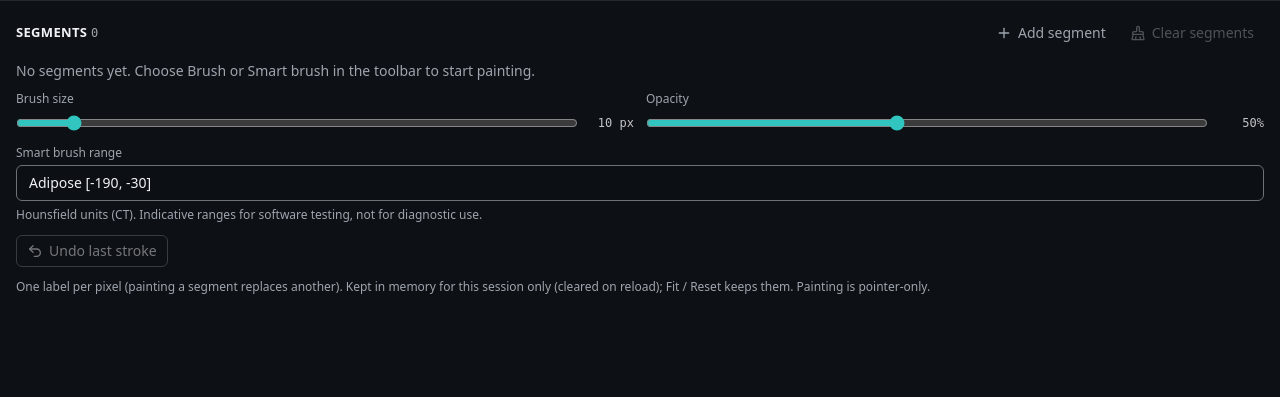
Test case: SegmentsSection › brush size, opacity, smart range and Undo drive the store
Set the slider labelled "Brush size" to "37" at (223, 123), box [16, 111, 578, 135]
Set the slider labelled "Opacity" to "80" at (1079, 123), box [646, 111, 1208, 135]
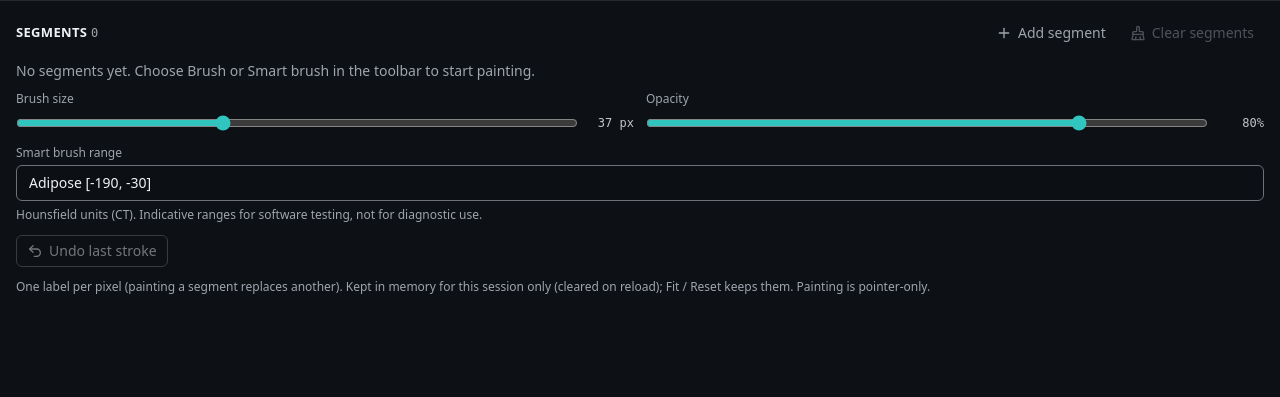
Select "Bone [150, 3000]" in the dropdown labelled "Smart brush range" at (640, 183), box [16, 165, 1264, 201]
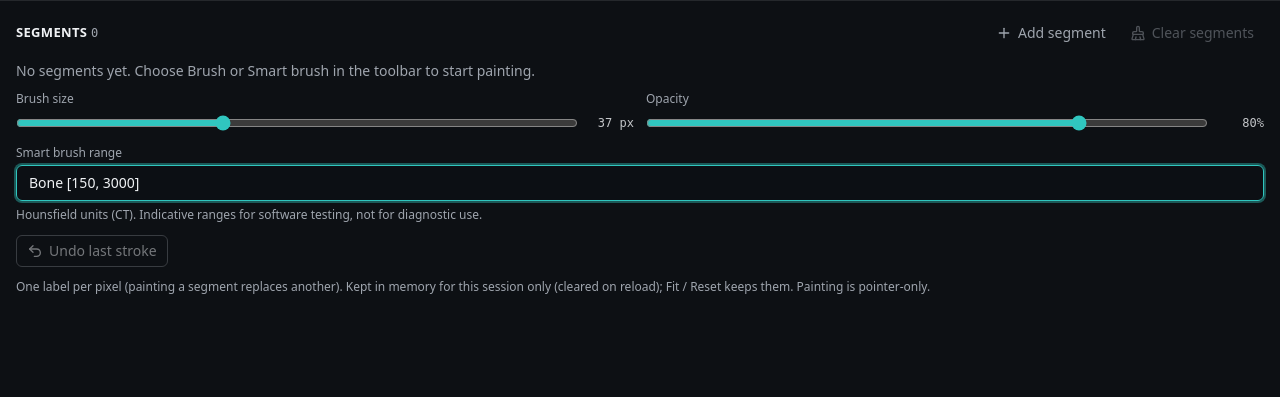
Expected: the number field labelled "Minimum" is not shown
Select "Custom" in the dropdown labelled "Smart brush range" at (640, 183), box [16, 165, 1264, 201]
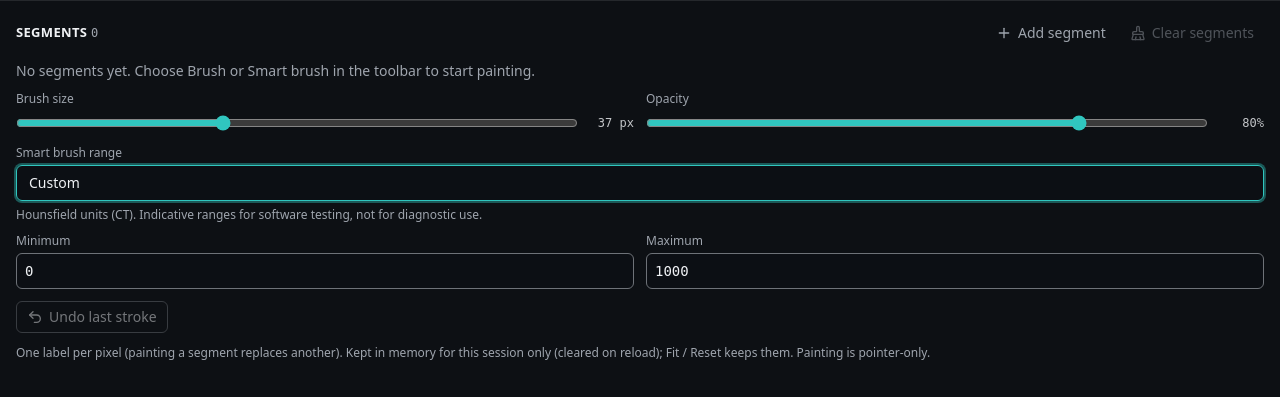
Replace the text in the number field labelled "Minimum" with "-190" at (325, 271), box [16, 253, 634, 289]
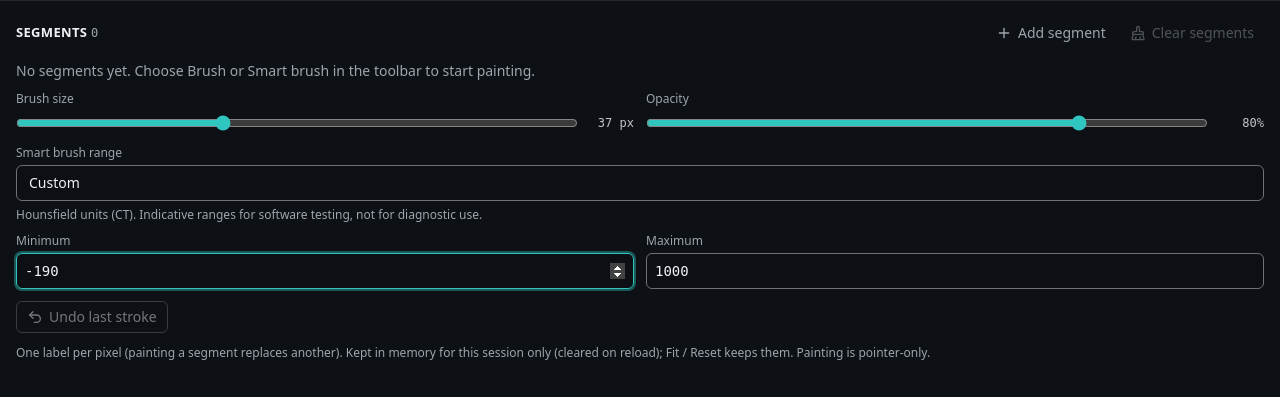
Replace the text in the number field labelled "Maximum" with "-30" at (955, 271), box [646, 253, 1264, 289]
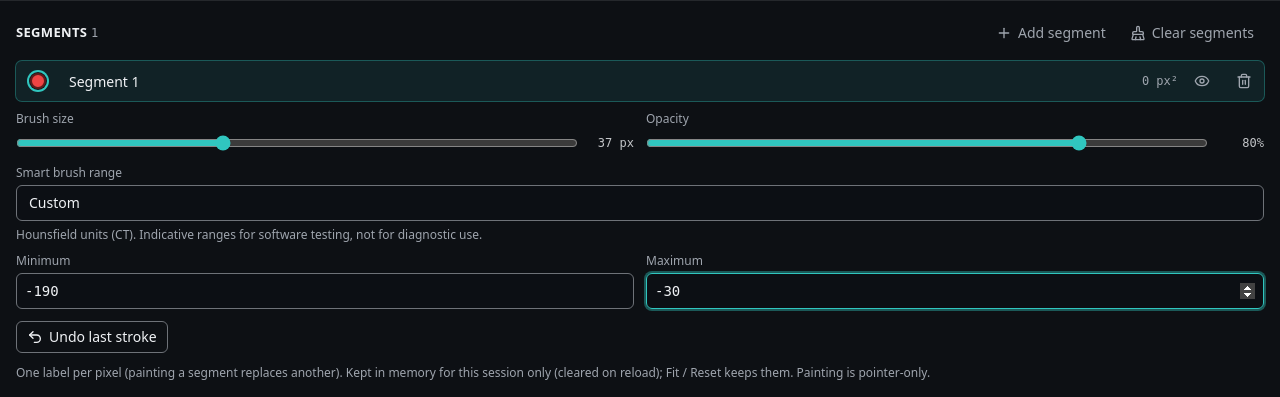
Expected: the button "Undo last stroke" is enabled
Click the button "Undo last stroke" at (92, 337), box [16, 321, 168, 353]
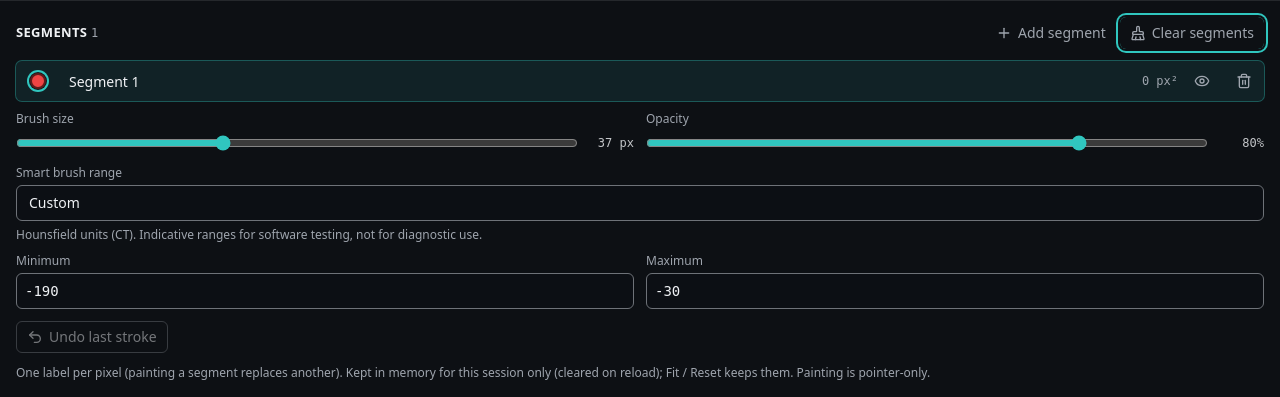
Expected: the button "Undo last stroke" is disabled, [16, 321, 168, 353]
